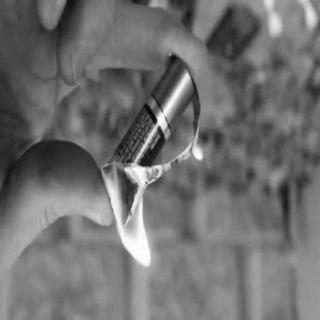Fire: (83, 154, 163, 297), (188, 113, 206, 179)
